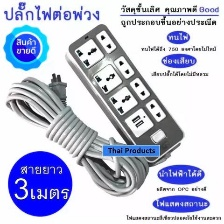three_eye_plug: (61, 18, 191, 165)
